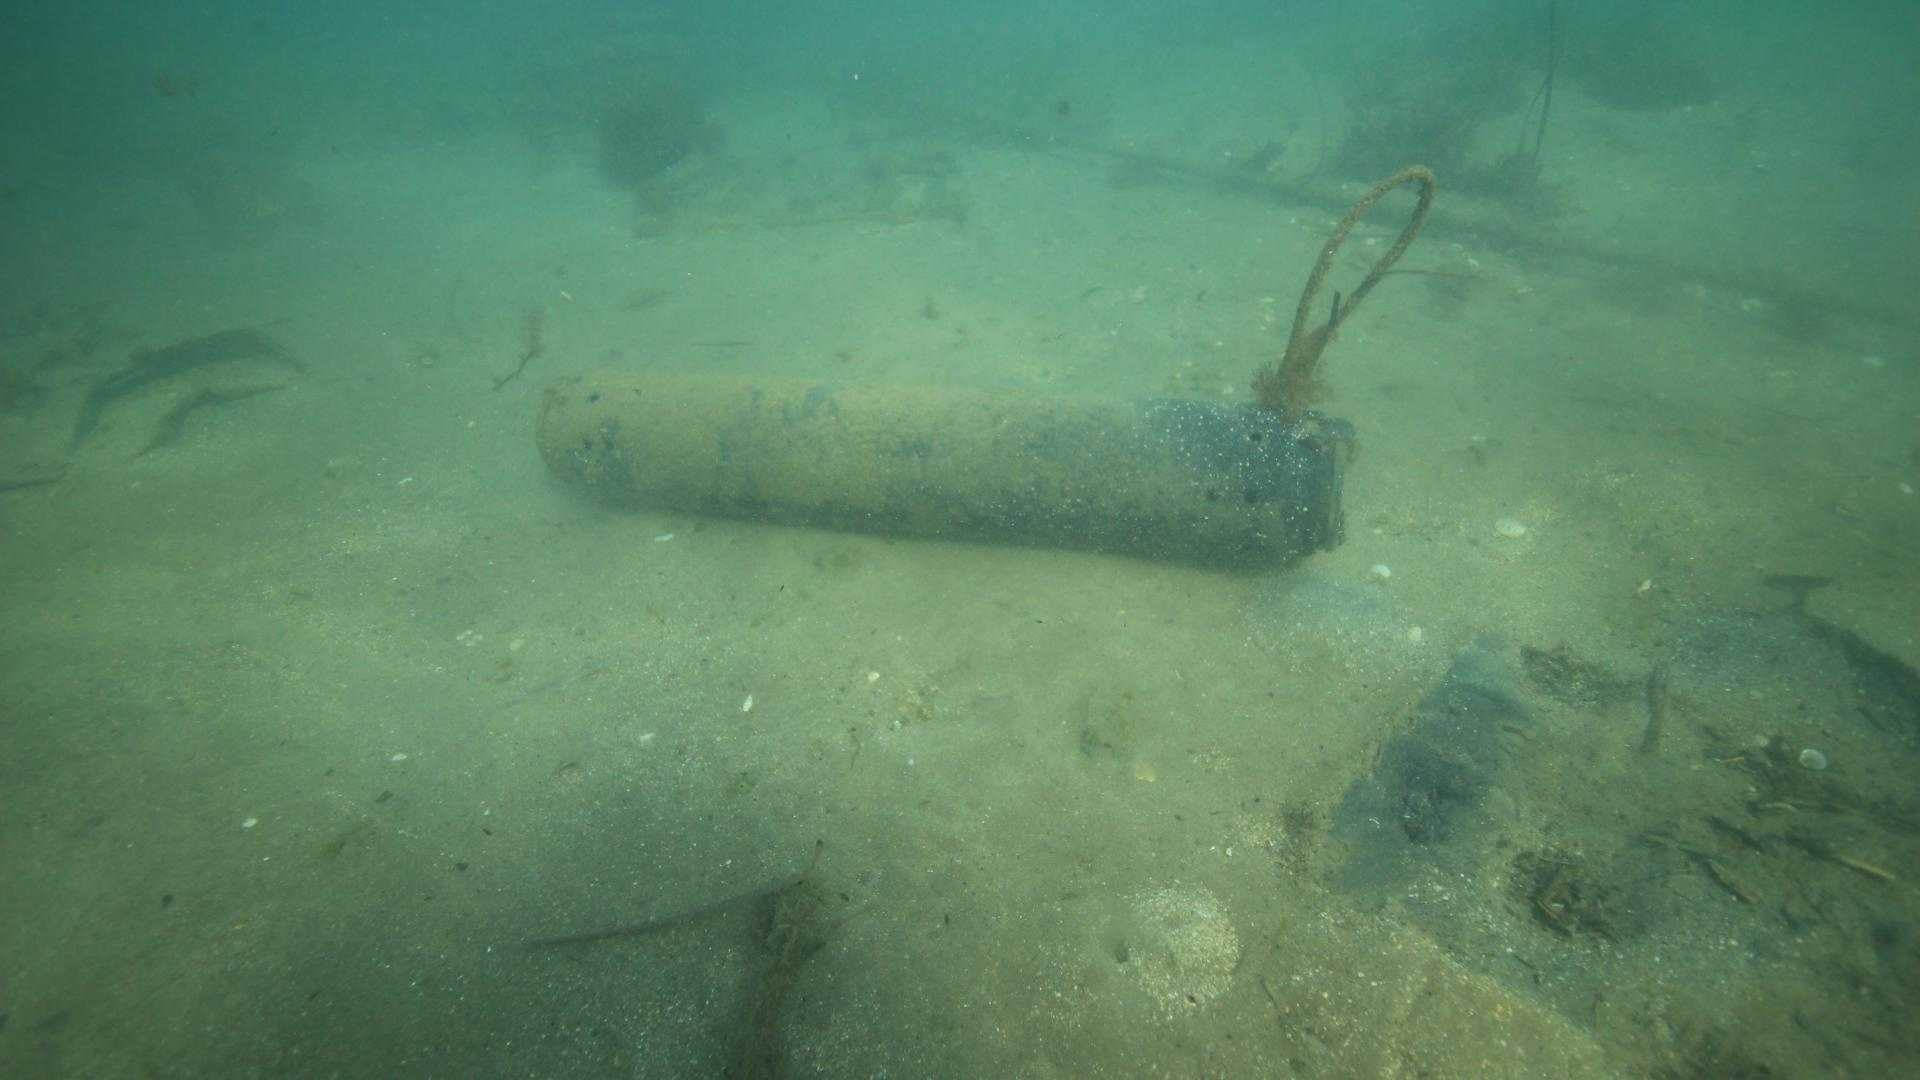eel fish trap: (529, 368, 1353, 568)
rope: (1280, 164, 1435, 375)
